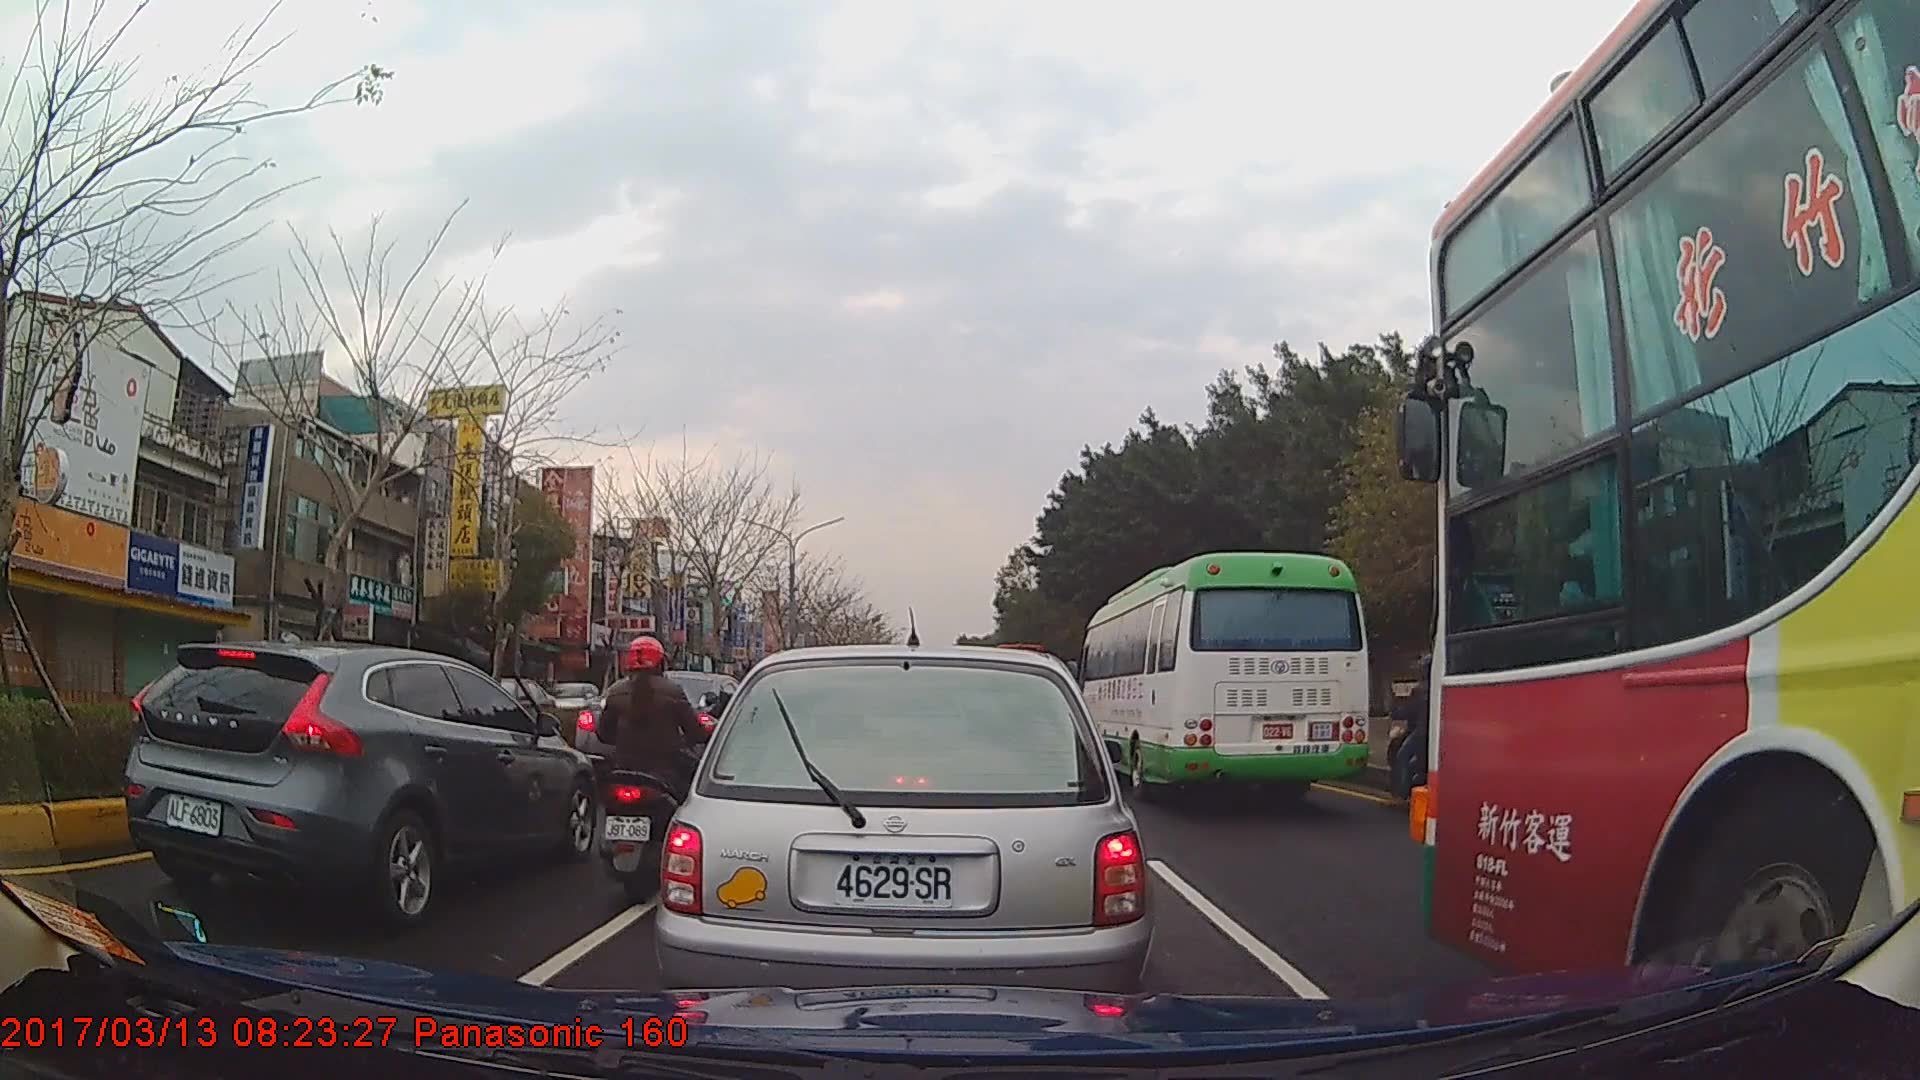rider: (596, 632, 717, 893), (1387, 655, 1474, 806)
vehicle: (1422, 0, 1920, 1026), (651, 645, 1156, 1031), (118, 642, 597, 923), (1075, 549, 1369, 804), (576, 668, 759, 786), (468, 677, 555, 728)
